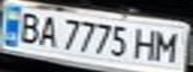5: (109, 22, 133, 58)
7: (57, 16, 81, 52), (75, 18, 96, 53), (93, 20, 112, 56)
A: (33, 14, 60, 47)
B: (12, 9, 45, 44)
H: (130, 26, 163, 61)
M: (151, 28, 187, 63)
